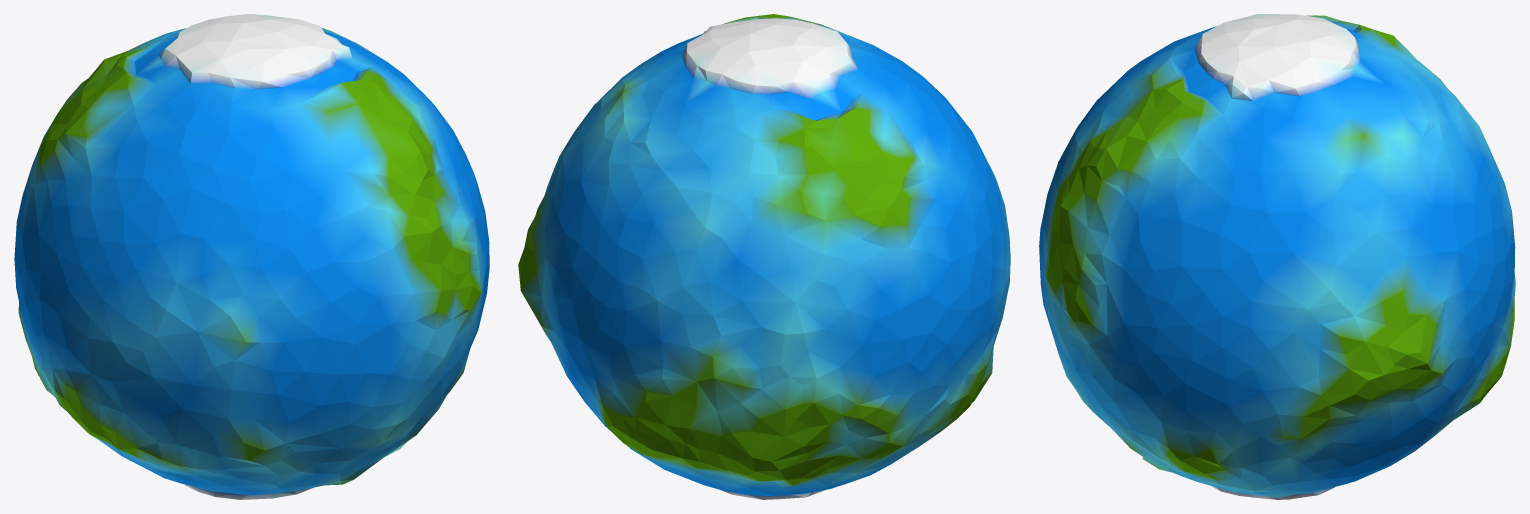
The model's file is planet_18.fbx.
3 views of the same model, side by side, from view 1: azimuth 30°, elevation 25°; view 2: azimuth 150°, elevation 25°; view 3: azimuth 270°, elevation 25° (orthographic).
Visible parts, largest first — view 1: file1; view 2: file1; view 3: file1.
Boxes of the visible parts, x1=… form: file1: x1=14, y1=14, x2=489, y2=499; file1: x1=518, y1=14, x2=1010, y2=499; file1: x1=1039, y1=14, x2=1515, y2=499.
Size of the model in its own units: 2.01 by 2.05 by 2.
